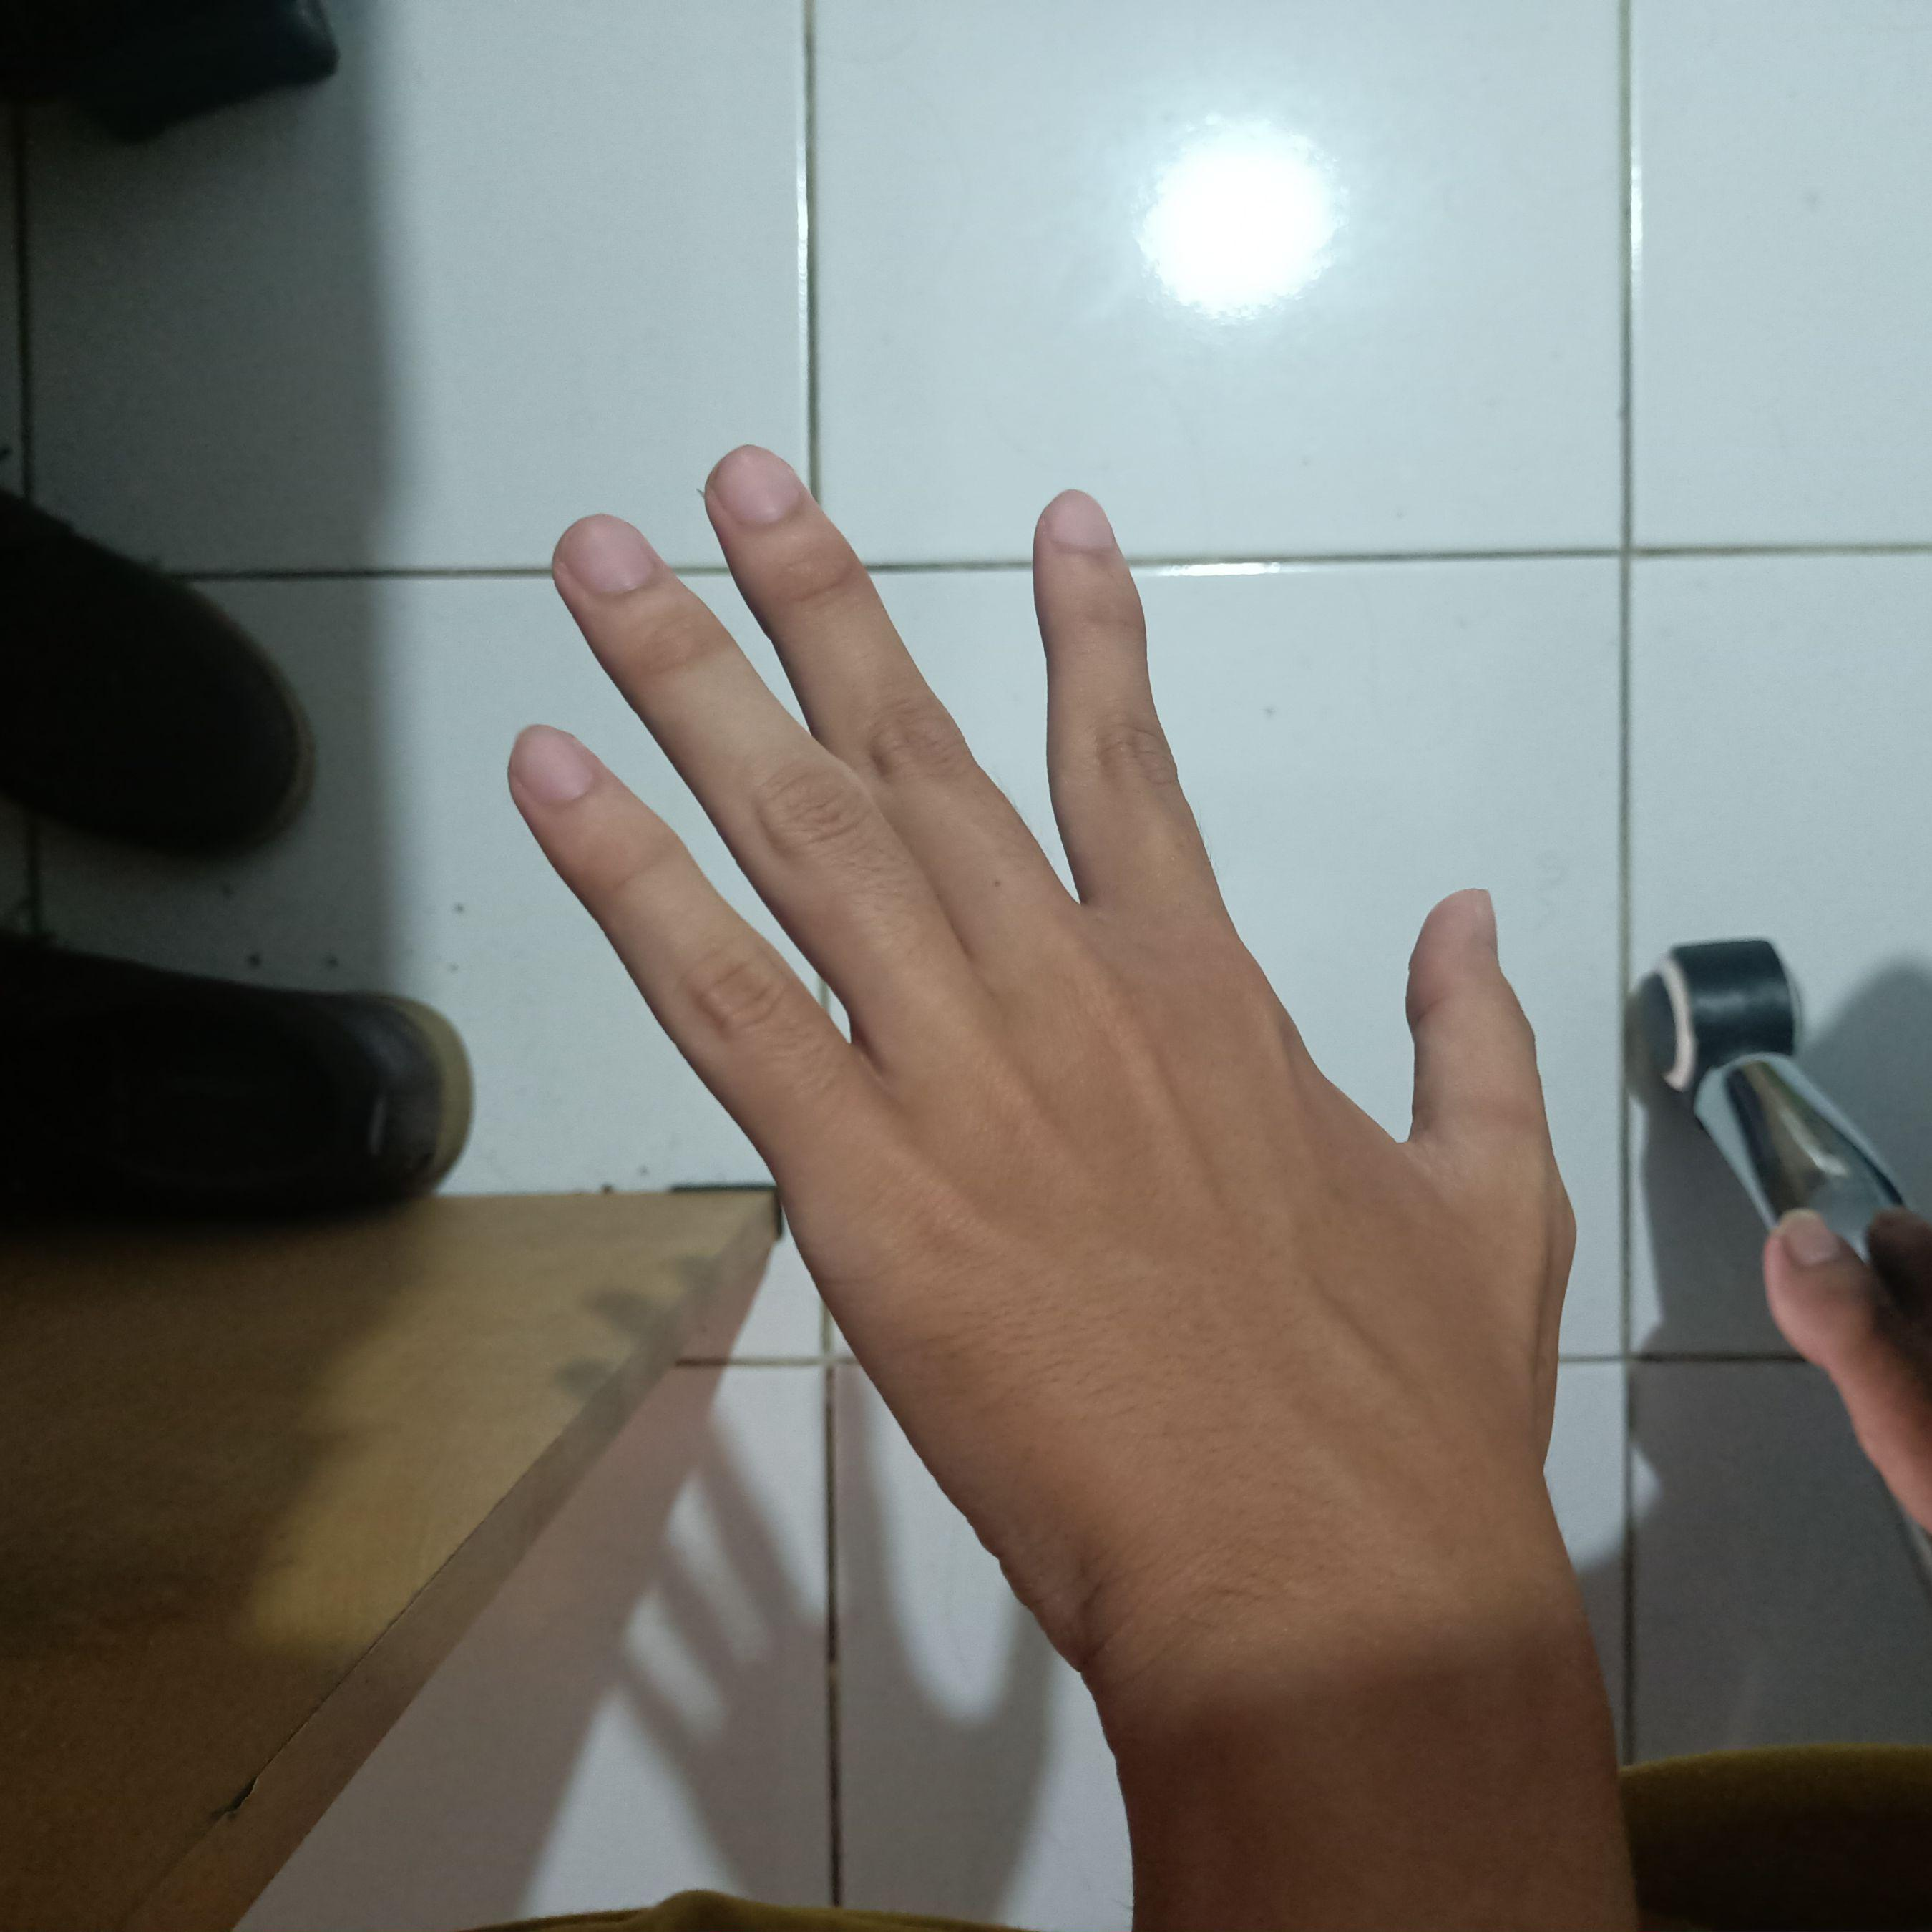paper: (490, 426, 1601, 1707)
